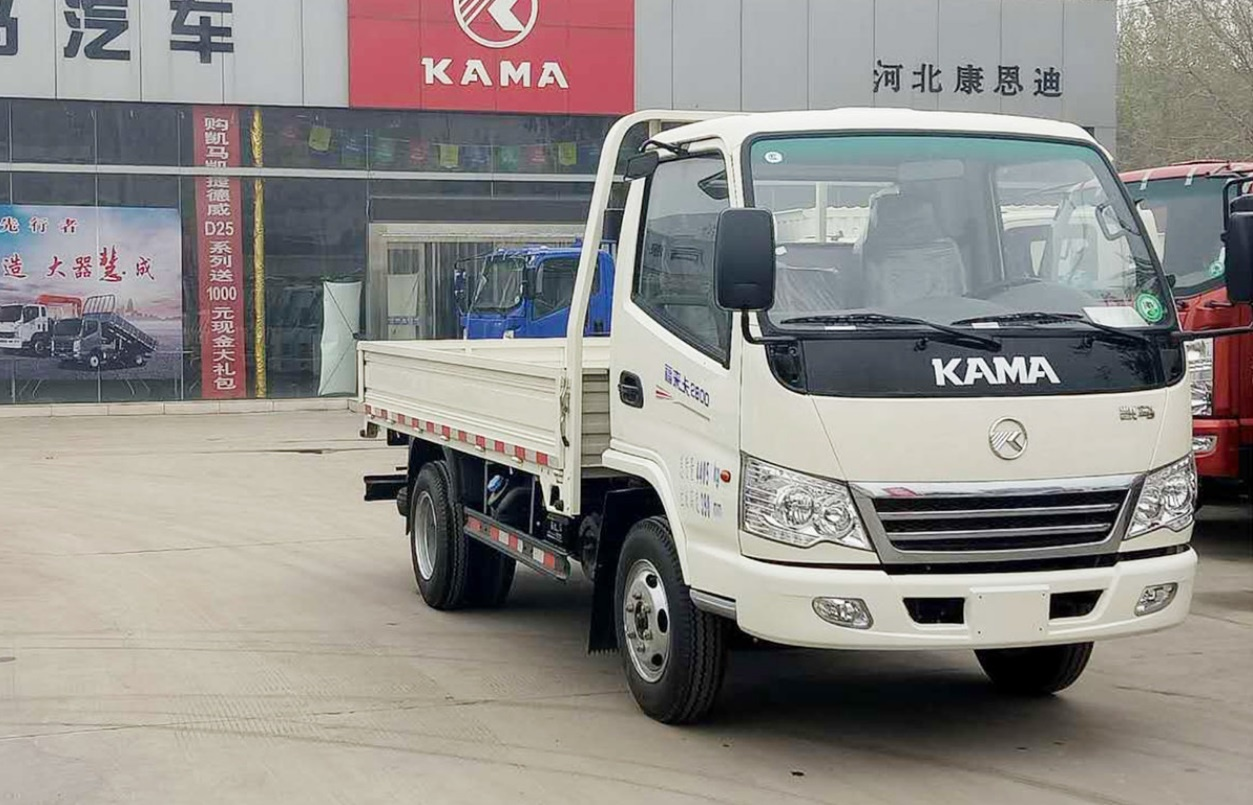truck: (355, 107, 1210, 751)
